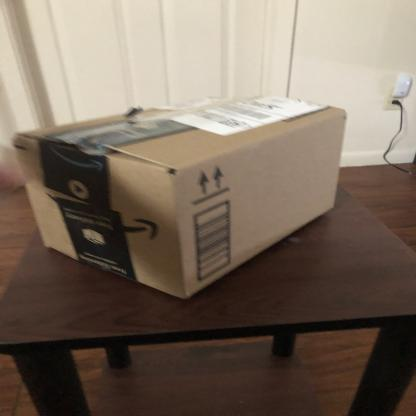package: (9, 95, 348, 303)
